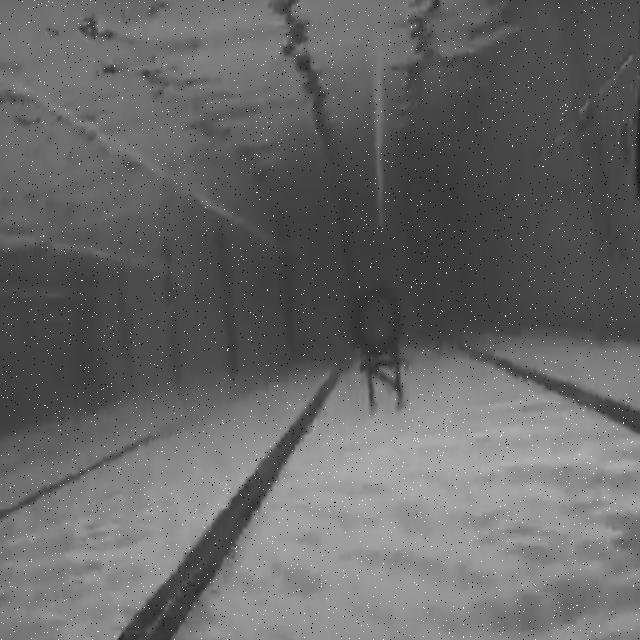Circle: (352, 289, 406, 357)
